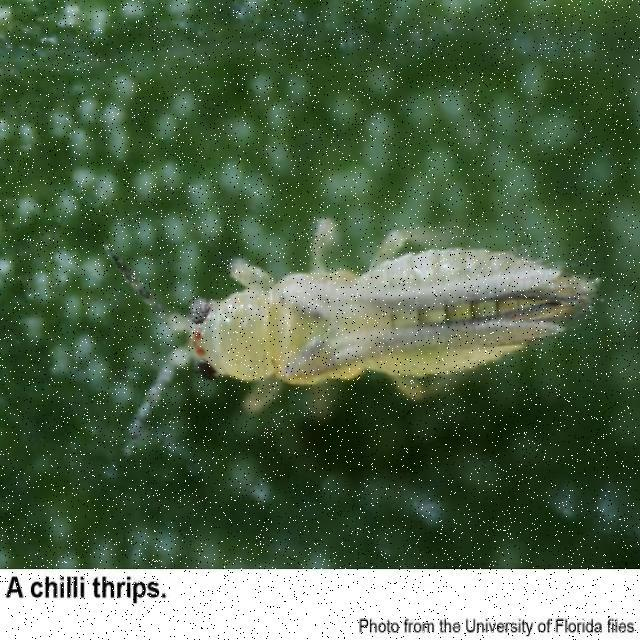Thrips: (139, 241, 618, 403)
